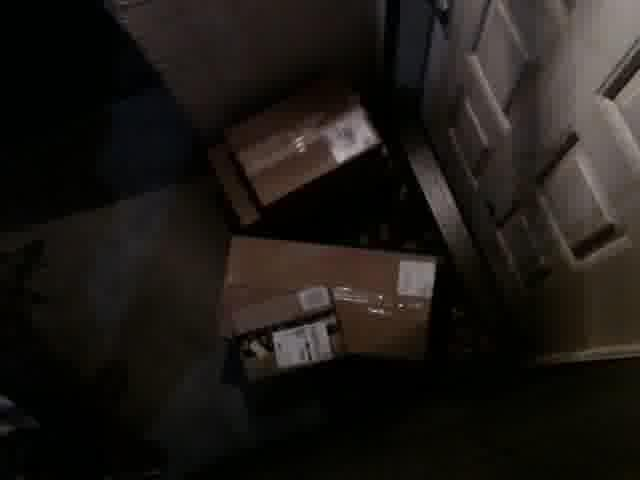box: (214, 237, 439, 372), (213, 60, 380, 229), (218, 70, 382, 215), (228, 281, 353, 389)
